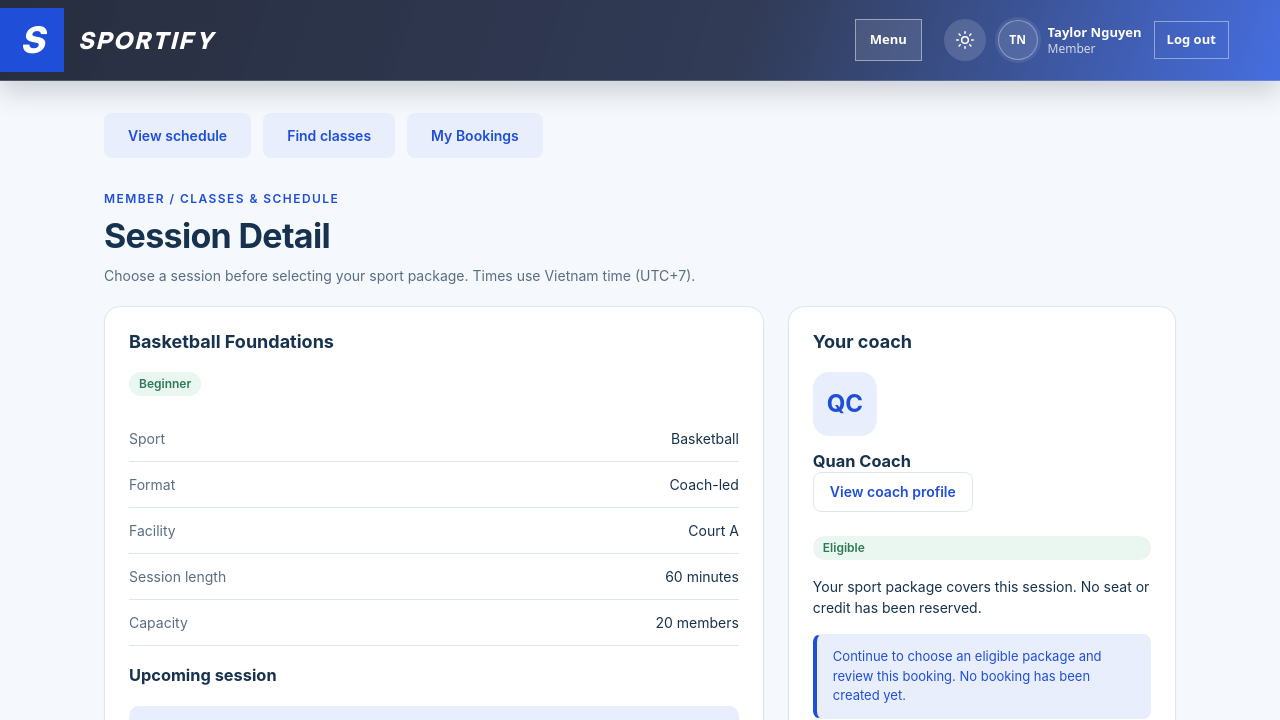
Test case: FE-08 session detail › renders the public profile when optional collection fields are null
Click the button "View coach profile". click: (893,492)
box: [813,472,973,512]
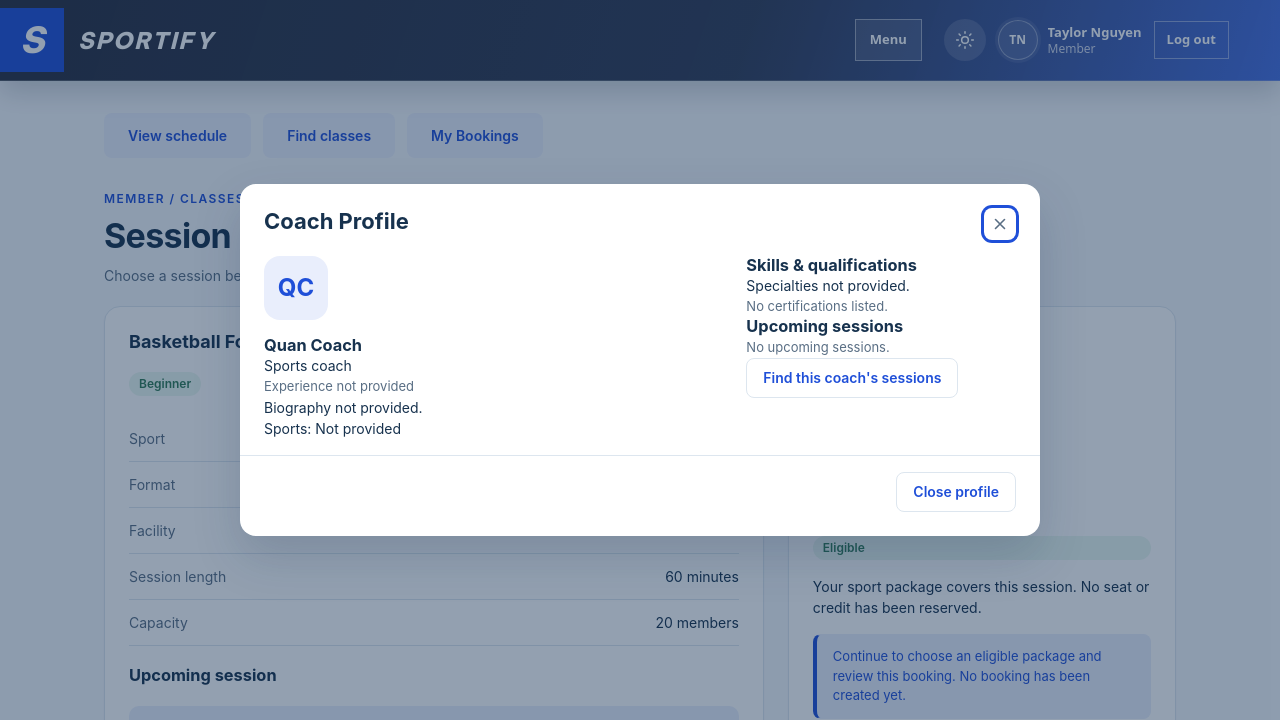
Check: the text "Sports: Not provided" is shown, box [264,420,401,437]
Check: the text "No certifications listed." is shown, box [746,298,888,314]
Check: the text "No upcoming sessions." is shown, box [746,339,890,355]
